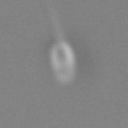normal: (38, 1, 69, 40)
